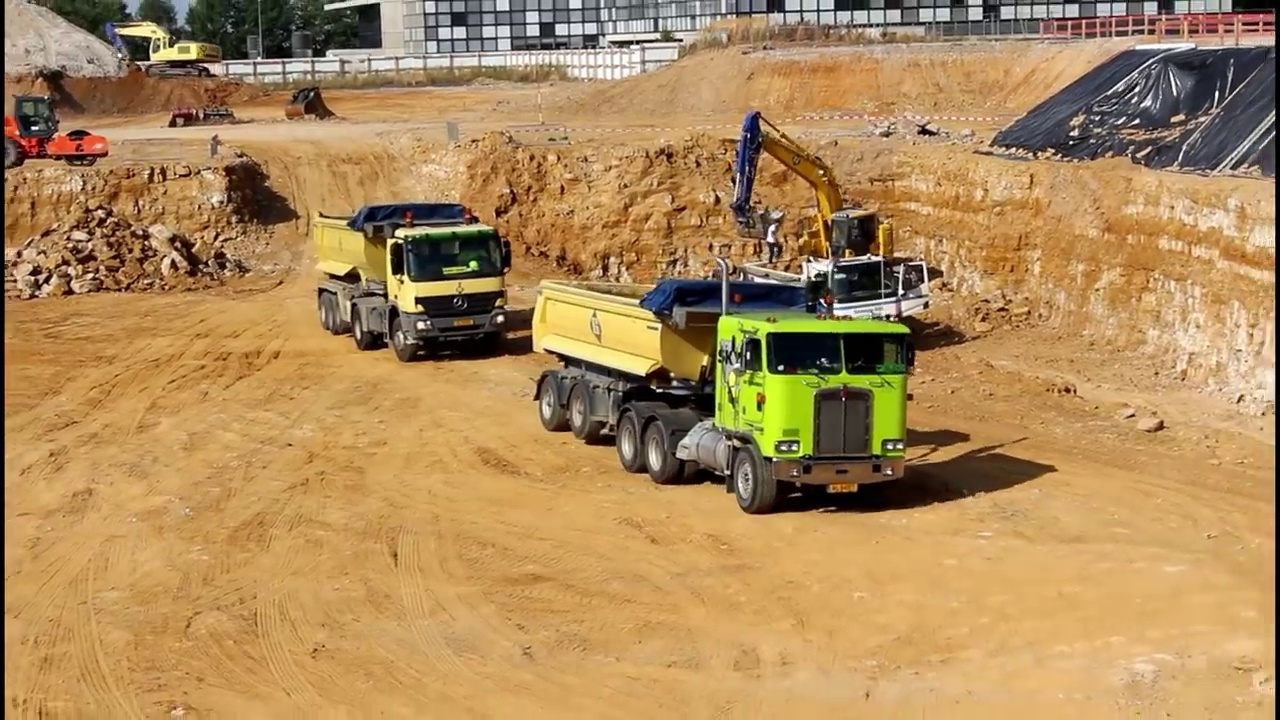compactor: (2, 93, 112, 178)
excavator: (726, 106, 910, 320), (99, 9, 224, 83)
truck: (531, 254, 917, 517), (309, 199, 516, 362), (740, 245, 933, 348)
worker: (765, 217, 789, 265)
